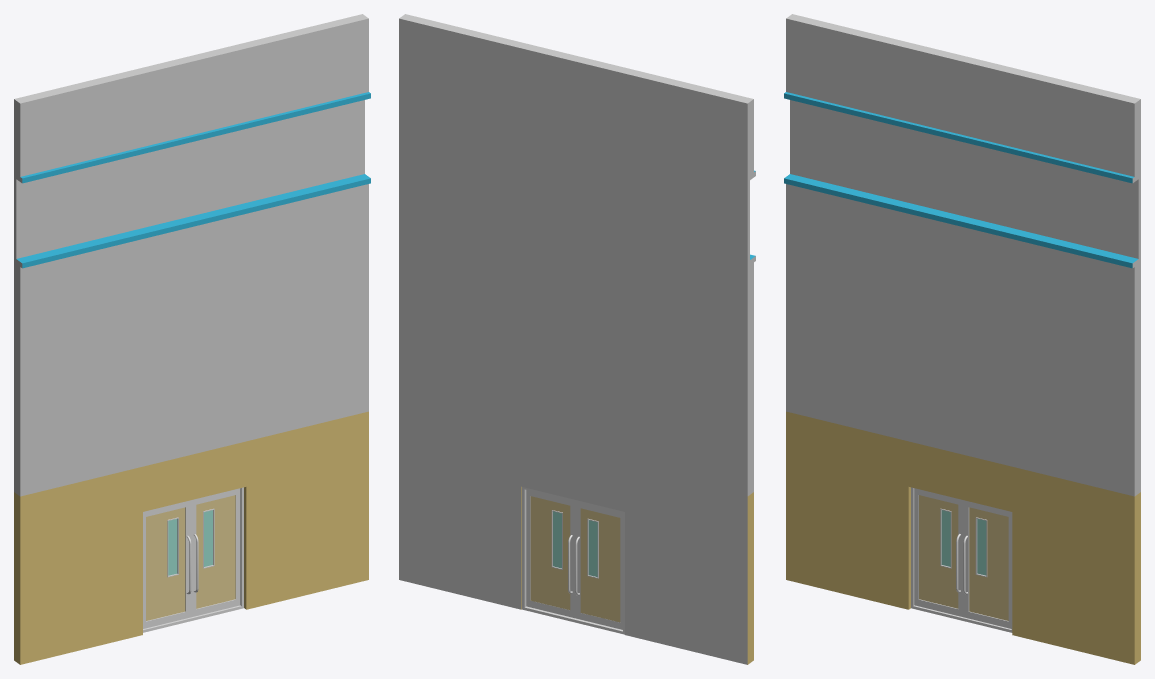
The model's file is Hall-wall-door.fbx.
3 renders of one model, left to right at view 1: azimuth 30°, elevation 25°; view 2: azimuth 150°, elevation 25°; view 3: azimuth 330°, elevation 25°, orthographic.
Parts seen in each view (by area): view 1: sporthall_wall_door, Door.R, Door.L, Doorfame; view 2: sporthall_wall_door, Door.R, Door.L, Doorfame; view 3: sporthall_wall_door, Door.L, Door.R, Doorfame.
Boxes of the visible parts, x1,y1,x2,y2 form: sporthall_wall_door: [14, 14, 370, 664]; Door.R: [191, 488, 240, 617]; Door.L: [143, 500, 191, 628]; Doorfame: [143, 487, 243, 632]; sporthall_wall_door: [399, 14, 755, 664]; Door.R: [526, 490, 575, 618]; Door.L: [575, 502, 622, 629]; Doorfame: [522, 487, 624, 634]; sporthall_wall_door: [784, 14, 1140, 664]; Door.L: [914, 488, 963, 617]; Door.R: [963, 500, 1011, 628]; Doorfame: [911, 487, 1012, 632].
Size of the model in its own units: 6.5 by 0.3109 by 10.
